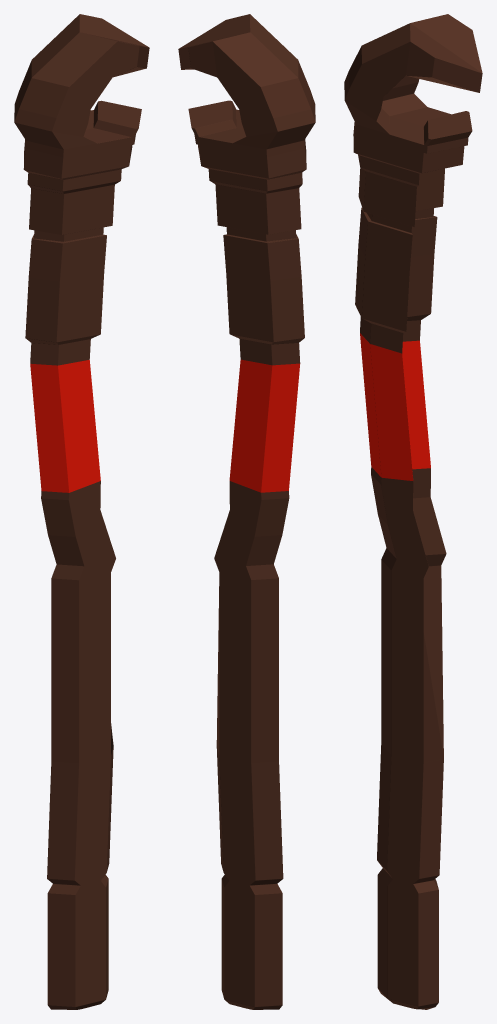
The model's file is Staff.fbx.
3 views of the same model, side by side, from view 1: azimuth 30°, elevation 25°; view 2: azimuth 150°, elevation 25°; view 3: azimuth 330°, elevation 25° (orthographic).
Visible parts, largest first — view 1: Cube; view 2: Cube; view 3: Cube.
Part boxes in pixels (<box>): Cube: <box>14,14,149,1009</box>; Cube: <box>178,14,315,1009</box>; Cube: <box>344,14,482,1009</box>.
Size of the model in its own units: 35.56 by 243 by 17.49.
